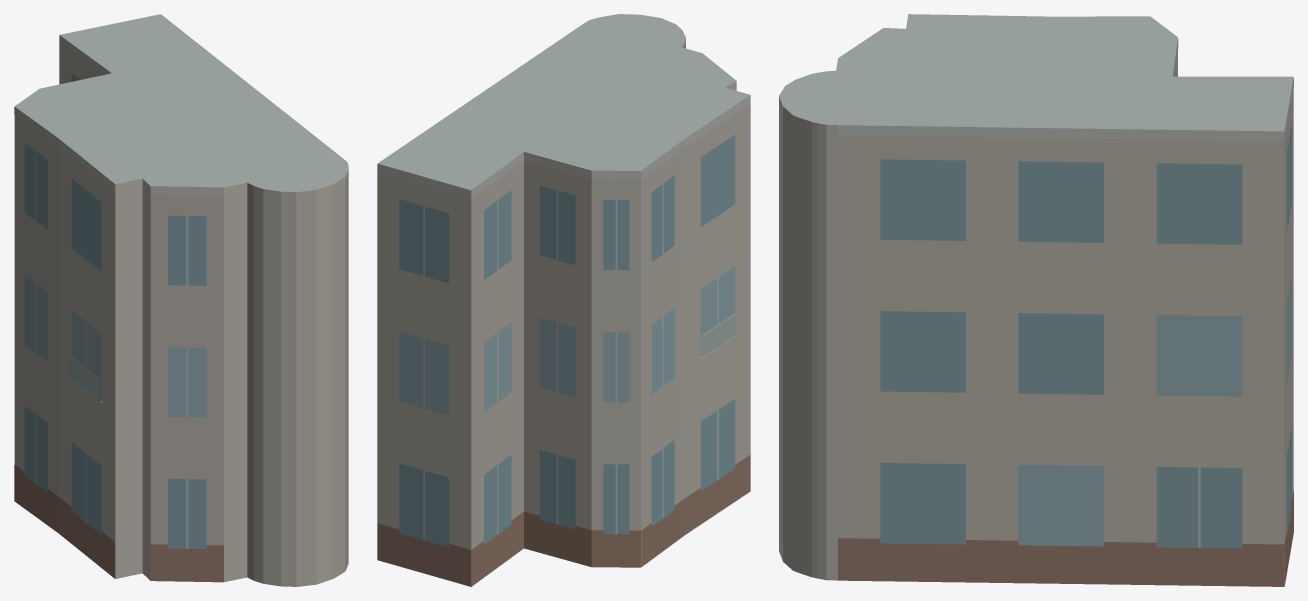
The model's file is survey-upis-32503595.glb.
3 renders of one model, left to right at view 1: azimuth 30°, elevation 25°; view 2: azimuth 150°, elevation 25°; view 3: azimuth 270°, elevation 25°, orthographic. The views are drawn at different scales.
Visible parts, largest first — view 1: survey-upis-32503595.tmp; view 2: survey-upis-32503595.tmp; view 3: survey-upis-32503595.tmp.
Part boxes in pixels (x1,y1,x2,y2): survey-upis-32503595.tmp: (14, 14, 348, 586); survey-upis-32503595.tmp: (377, 14, 750, 586); survey-upis-32503595.tmp: (779, 14, 1293, 586).
Size of the model in its own units: 6.15 by 11.1 by 11.38.
